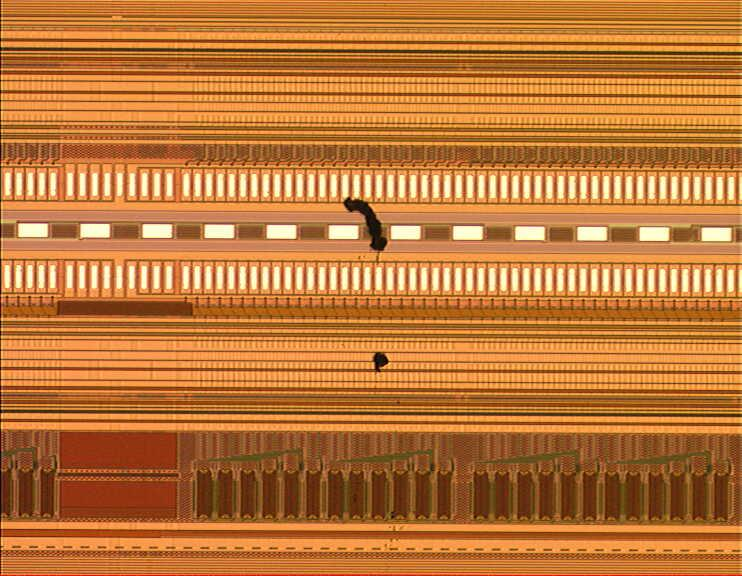PO CONTAMINATION: (338, 189, 396, 377)
